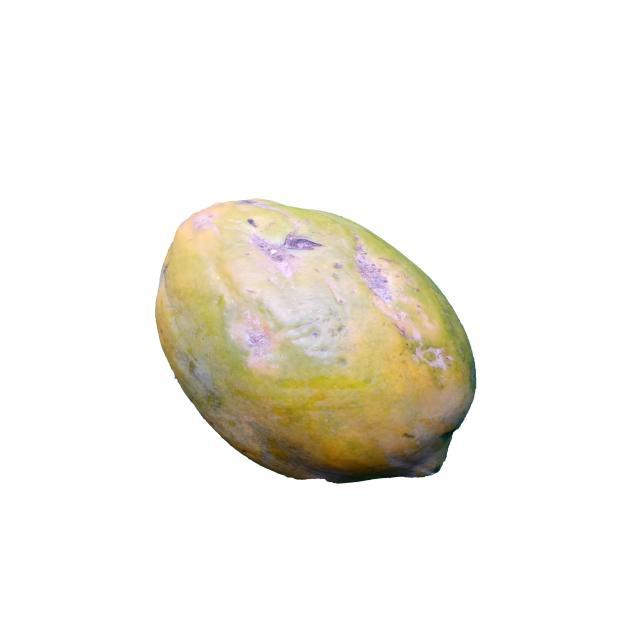Pepaya rippen: (156, 184, 473, 497)
